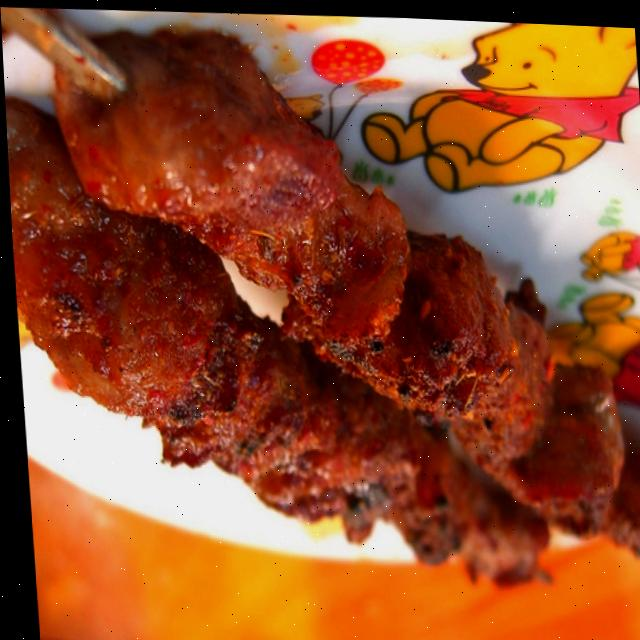烧串烤肉: (4, 50, 640, 625)
